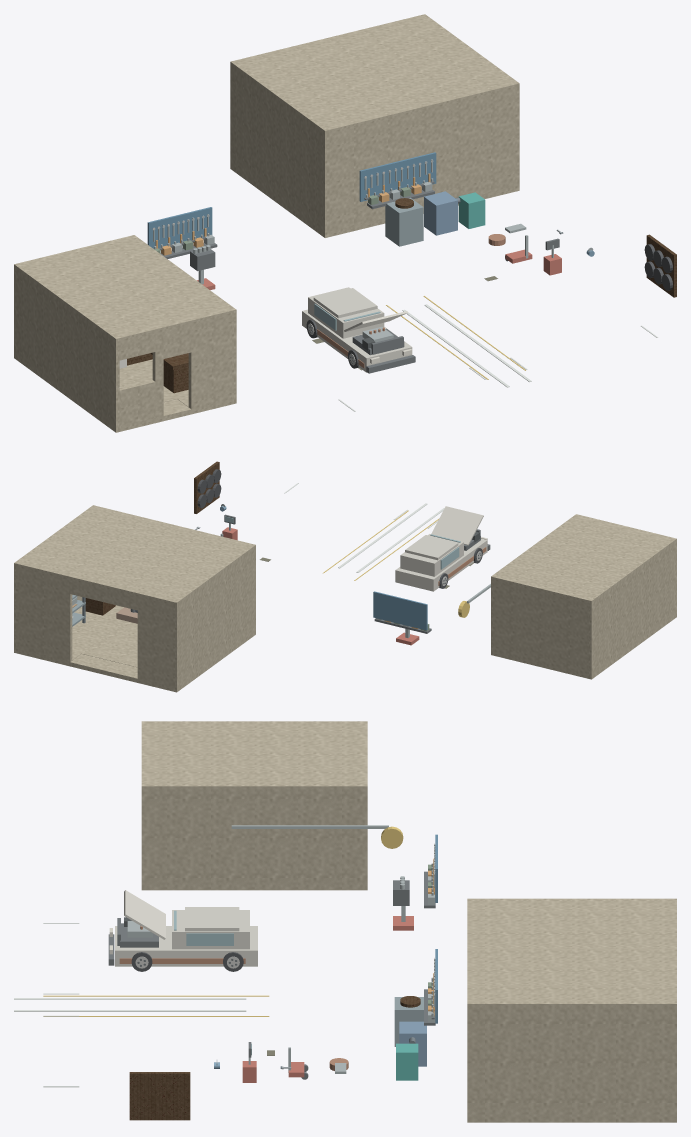
The model's file is EST05.glb.
3 views of the same model, one above another, from view 1: azimuth 30°, elevation 25°; view 2: azimuth 150°, elevation 25°; view 3: azimuth 270°, elevation 25° (orthographic). The views are drawn at different scales.
Parts seen in each view (by area): view 1: ADAPT_R02_DEPOSITO_CORPO_6, ADAPT_R02_DEPOSITO_CORPO_10, ADAPT_R02_ESCRITORIO_CORPO_9, ADAPT_R02_DEPOSITO_CORPO_0, ADAPT_R02_ESCRITORIO_CORPO_0, ADAPT_R02_ESCRITORIO_CORPO_12, EST05_REV04_PAINEL_TRASEIRO_1, EST05_REV04_PAINEL_TRASEIRO_0, MEC_MONTADORA_PNEUS__body, ADAPT_R02_ESCRITORIO_CORPO_14, MEC_BALANCEADORA__body, EST05_REV04_CARRO_CHASSI (+11 smaller); view 2: ADAPT_R02_DEPOSITO_CORPO_6, ADAPT_R02_ESCRITORIO_CORPO_9, ADAPT_R02_DEPOSITO_CORPO_0, ADAPT_R02_ESCRITORIO_CORPO_0, ADAPT_R02_ESCRITORIO_CORPO_10, ADAPT_R02_DEPOSITO_CORPO_8, ADAPT_R02_DEPOSITO_CORPO_7, ADAPT_R02_DEPOSITO_CORPO_3, ADAPT_R02_DEPOSITO_CORPO_5, EST05_REV04_PAINEL_TRASEIRO_0, EST05_REV04_CARRO_CAPO_ABERTO, EST05_REV04_CARRO_CHASSI (+7 smaller); view 3: ADAPT_R02_DEPOSITO_CORPO_1, ADAPT_R02_ESCRITORIO_CORPO_4, ADAPT_R02_DEPOSITO_CORPO_6, ADAPT_R02_ESCRITORIO_CORPO_9, EST05_REV04_PNEUS_ESTANTE_ESTRUTURA, EST05_REV04_CARRO_CHASSI, EST05_REV04_CARRO_CABINE, EST05_REV04_CARRO_TETO, EST05_REV04_CARRO_CAPO_ABERTO, MEC_TESTE_BATERIA__body, ADAPT_R02_DEPOSITO_CORPO_0, MEC_BALANCEADORA__body (+4 smaller).
Part boxes in pixels (x1,y1,x2,y2): ADAPT_R02_DEPOSITO_CORPO_6: [235, 15, 515, 133]; ADAPT_R02_DEPOSITO_CORPO_10: [329, 89, 515, 231]; ADAPT_R02_ESCRITORIO_CORPO_9: [19, 236, 231, 341]; ADAPT_R02_DEPOSITO_CORPO_0: [230, 60, 329, 237]; ADAPT_R02_ESCRITORIO_CORPO_0: [14, 263, 119, 432]; ADAPT_R02_ESCRITORIO_CORPO_12: [188, 315, 231, 408]; EST05_REV04_PAINEL_TRASEIRO_1: [359, 152, 436, 201]; EST05_REV04_PAINEL_TRASEIRO_0: [147, 207, 212, 248]; MEC_MONTADORA_PNEUS__body: [385, 197, 423, 246]; ADAPT_R02_ESCRITORIO_CORPO_14: [119, 380, 155, 426]; MEC_BALANCEADORA__body: [424, 191, 457, 235]; EST05_REV04_CARRO_CHASSI: [302, 309, 412, 372]; ADAPT_R02_DEPOSITO_CORPO_6: [18, 506, 251, 605]; ADAPT_R02_ESCRITORIO_CORPO_9: [494, 515, 672, 603]; ADAPT_R02_DEPOSITO_CORPO_0: [173, 544, 255, 692]; ADAPT_R02_ESCRITORIO_CORPO_0: [588, 538, 676, 679]; ADAPT_R02_ESCRITORIO_CORPO_10: [494, 581, 587, 673]; ADAPT_R02_DEPOSITO_CORPO_8: [18, 567, 72, 661]; ADAPT_R02_DEPOSITO_CORPO_7: [137, 597, 172, 686]; ADAPT_R02_DEPOSITO_CORPO_3: [18, 605, 125, 666]; ADAPT_R02_DEPOSITO_CORPO_5: [82, 621, 137, 667]; EST05_REV04_PAINEL_TRASEIRO_0: [373, 591, 427, 630]; EST05_REV04_CARRO_CAPO_ABERTO: [431, 506, 483, 545]; EST05_REV04_CARRO_CHASSI: [395, 538, 487, 591]; ADAPT_R02_DEPOSITO_CORPO_1: [467, 1001, 676, 1122]; ADAPT_R02_ESCRITORIO_CORPO_4: [141, 784, 367, 890]; ADAPT_R02_DEPOSITO_CORPO_6: [467, 901, 676, 1001]; ADAPT_R02_ESCRITORIO_CORPO_9: [141, 723, 367, 783]; EST05_REV04_PNEUS_ESTANTE_ESTRUTURA: [129, 1072, 190, 1120]; EST05_REV04_CARRO_CHASSI: [115, 926, 257, 966]; EST05_REV04_CARRO_CABINE: [172, 910, 249, 949]; EST05_REV04_CARRO_TETO: [185, 907, 239, 931]; EST05_REV04_CARRO_CAPO_ABERTO: [124, 890, 165, 939]; MEC_TESTE_BATERIA__body: [396, 1043, 418, 1080]; ADAPT_R02_DEPOSITO_CORPO_0: [467, 898, 676, 901]; MEC_BALANCEADORA__body: [399, 1021, 426, 1066].
Bounding box in the file's own units: 21.68 × 4 × 20.25.
Materials: 45 (2 with a texture image).
